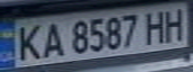5: (87, 16, 109, 53)
7: (118, 11, 145, 47)
8: (103, 13, 127, 51), (66, 17, 90, 55)
A: (39, 20, 66, 58)
H: (157, 6, 190, 43), (139, 8, 172, 44)
K: (9, 21, 48, 62)
